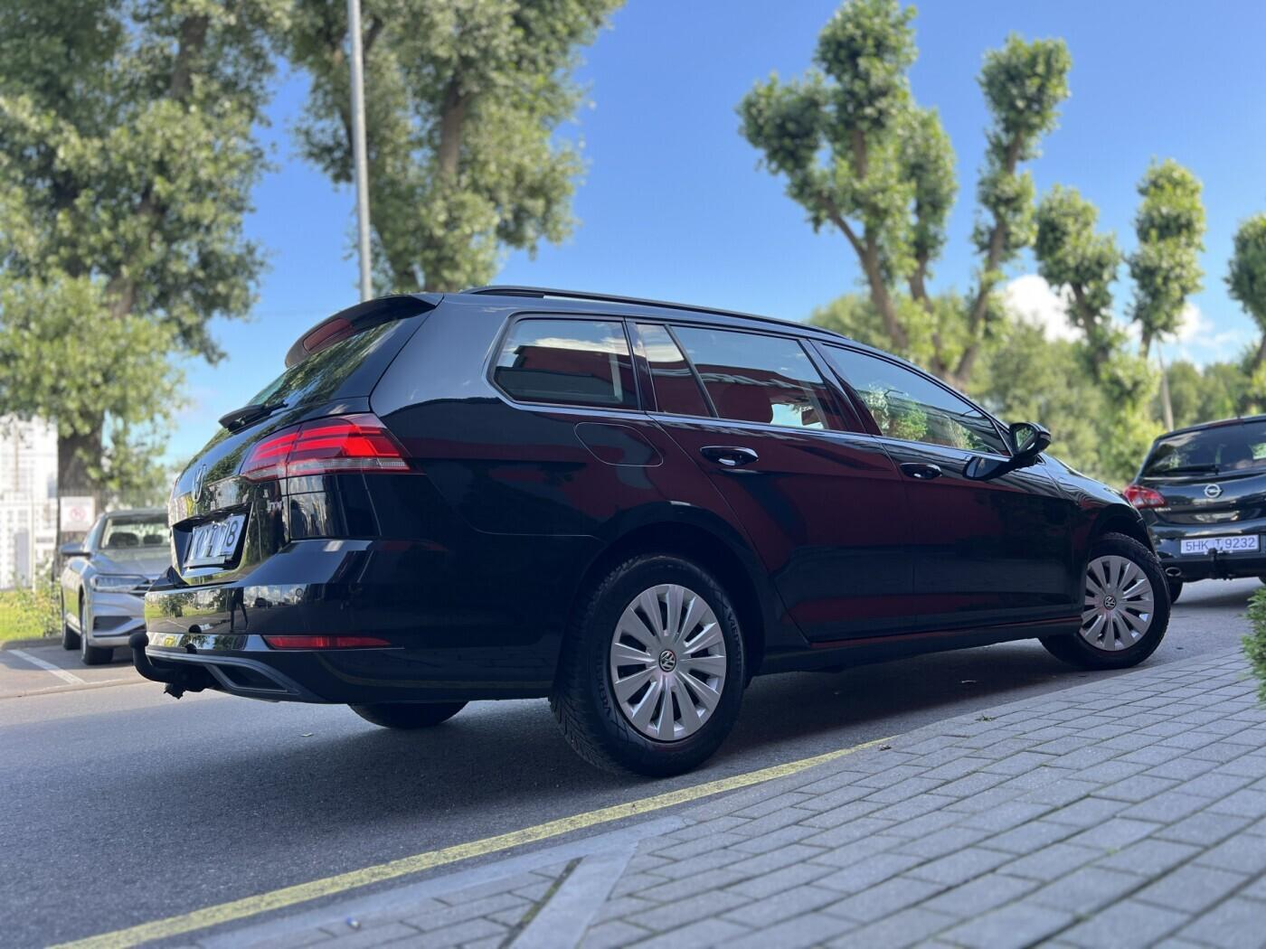Golf_2017-2021: (134, 281, 1176, 769)
